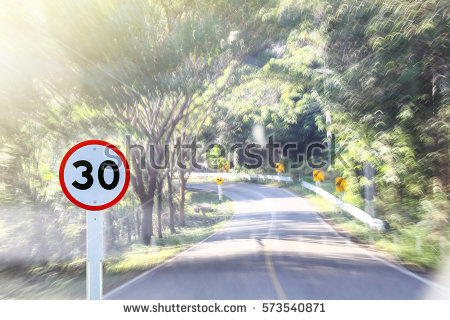Speed_limit_30km: (58, 141, 130, 211)
